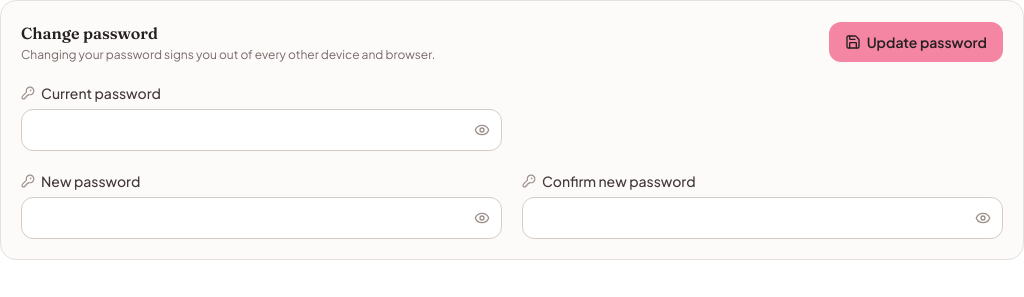
Test: ChangePasswordForm › rejects a new password identical to the current password (client-side mirror of the backend guard)
In the password field labelled "Current password": x=262, y=130 [21,109,502,151], type "samepass1"
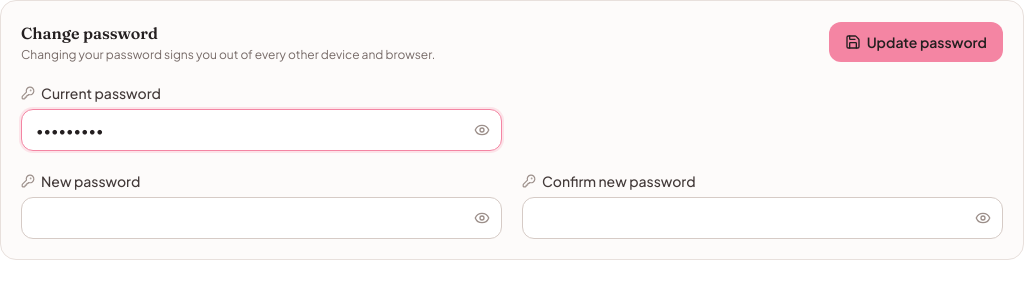
In the password field labelled "New password": x=262, y=218 [21,197,502,239], type "samepass1"
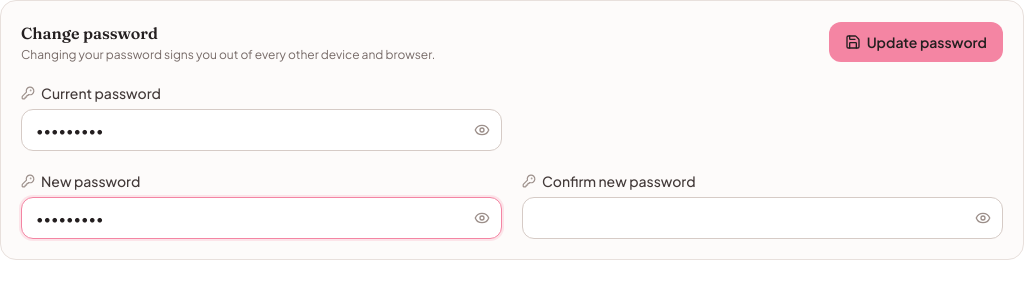
In the password field labelled "Confirm new password": x=762, y=218 [522,197,1003,239], type "samepass1"
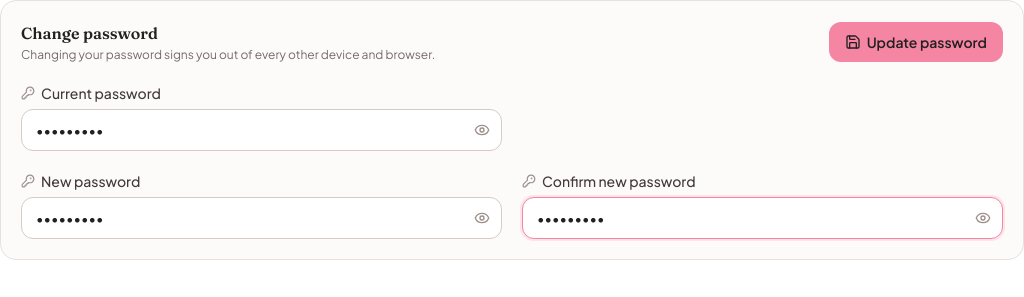
Click the button "Update password": x=916, y=42 [829,22,1003,62]
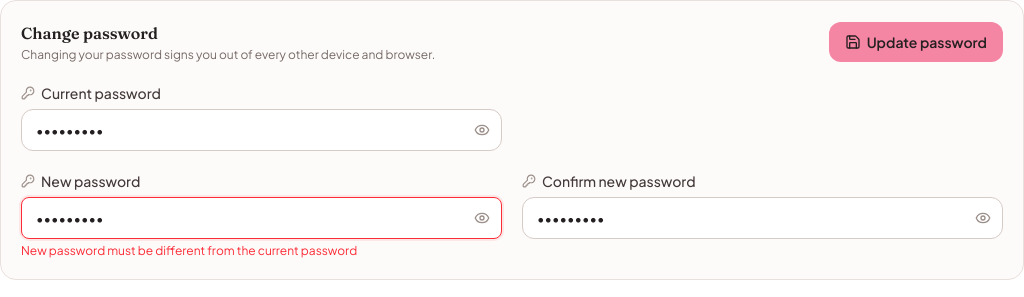
Check: the text "New password must be different from the current password" is shown, box [21,243,357,258]
